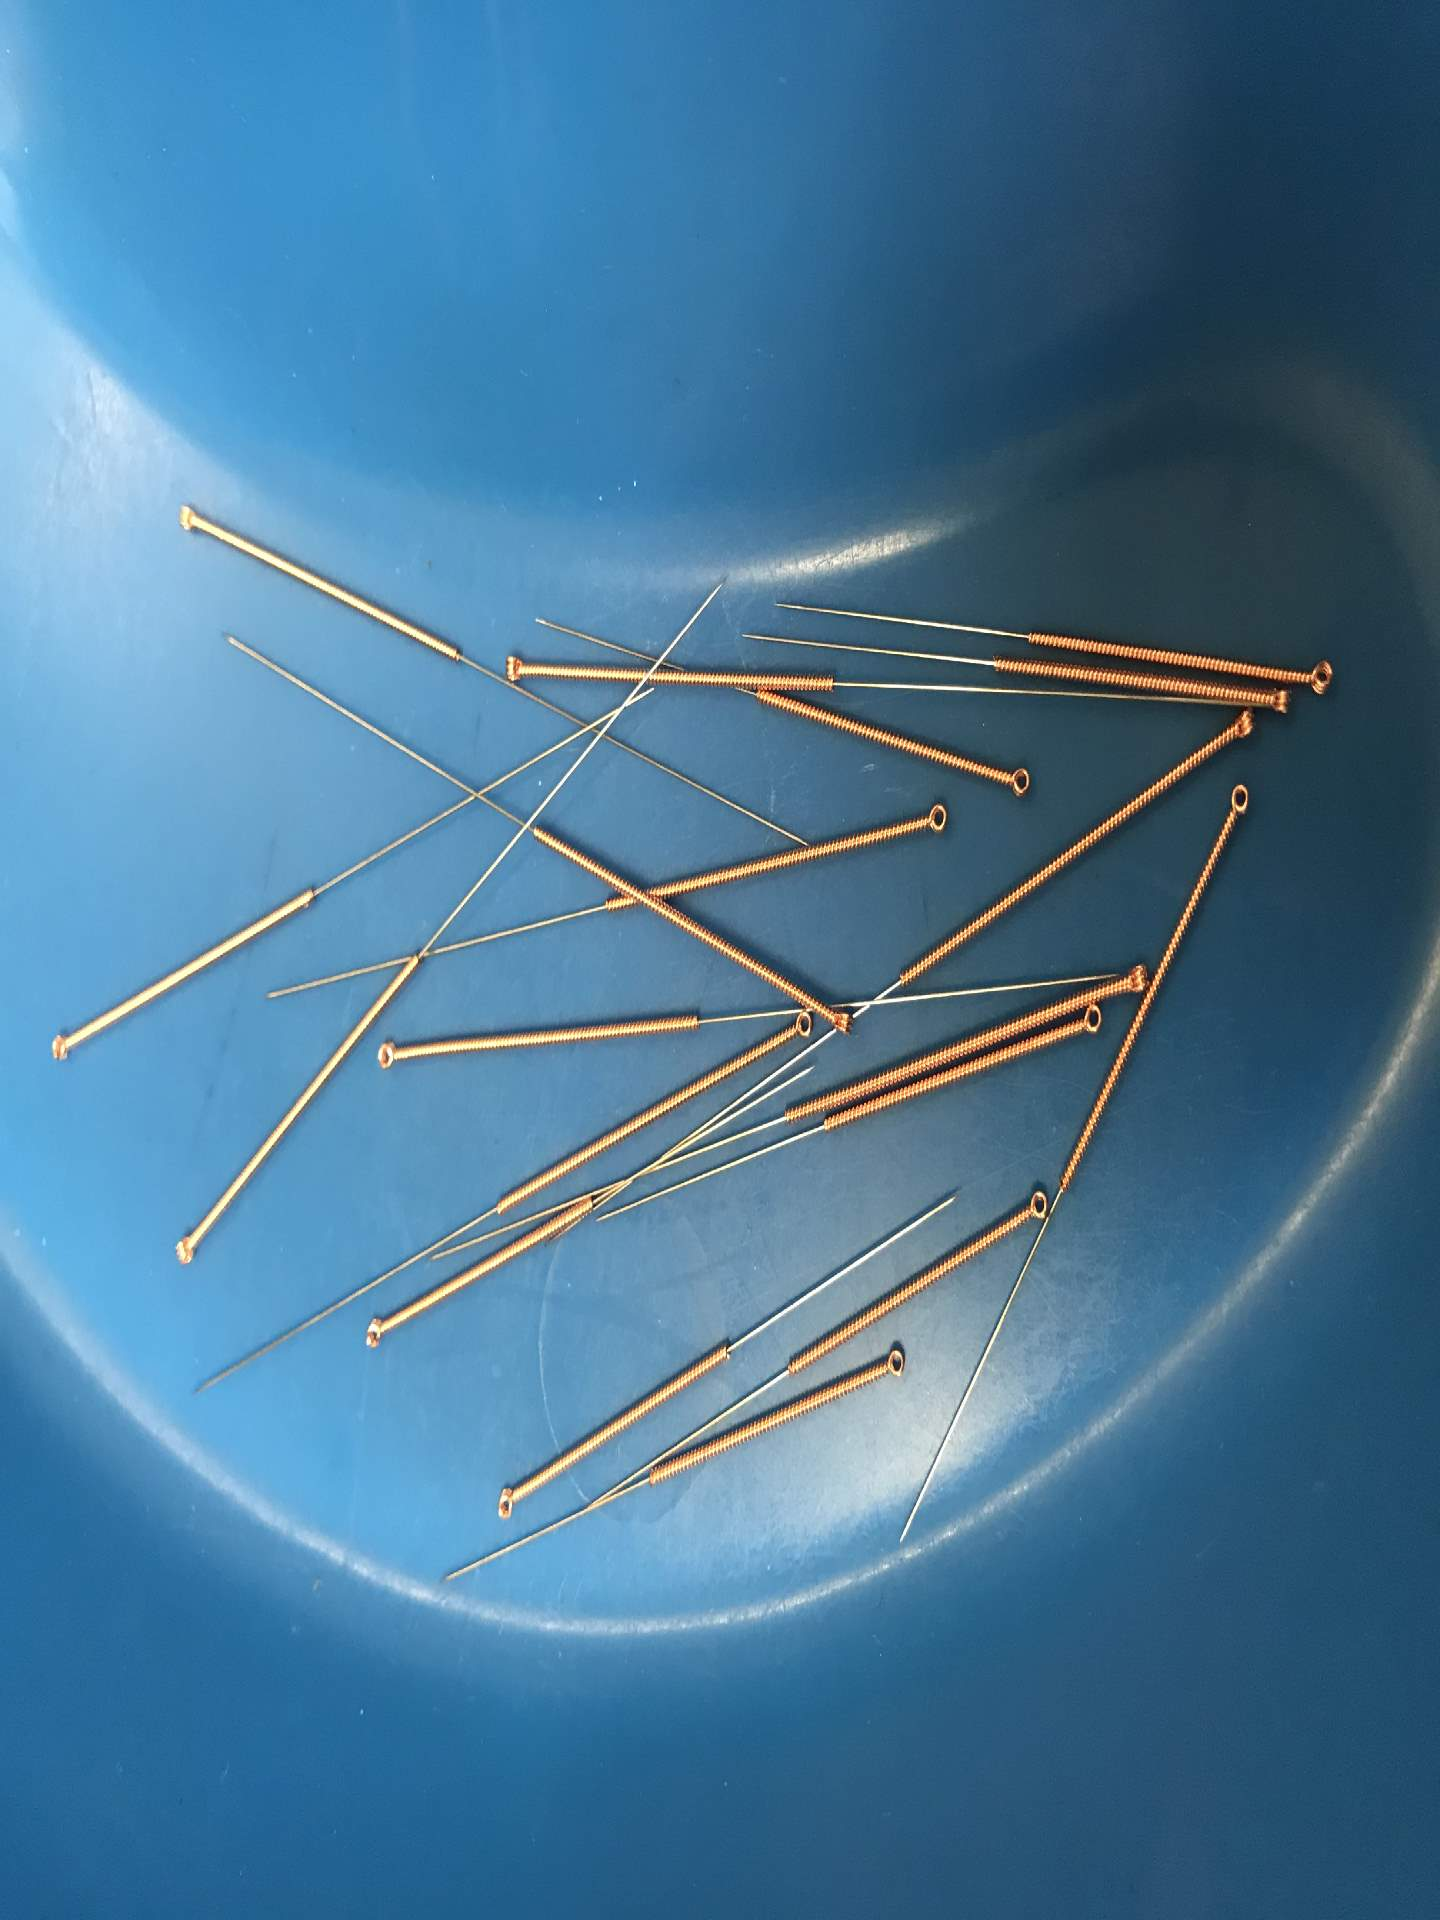needle: (1296, 650, 1342, 701), (998, 756, 1039, 807), (915, 792, 956, 844), (166, 496, 206, 543), (487, 1479, 526, 1525), (1221, 774, 1257, 824), (1224, 703, 1263, 747), (166, 1228, 203, 1274), (1016, 1184, 1054, 1228), (354, 1312, 392, 1356), (495, 647, 532, 689), (1262, 679, 1296, 724), (823, 1002, 861, 1043), (1116, 957, 1154, 998), (876, 1339, 912, 1382), (371, 1033, 404, 1076), (42, 1027, 76, 1070), (1072, 999, 1107, 1040), (781, 1007, 815, 1045)
